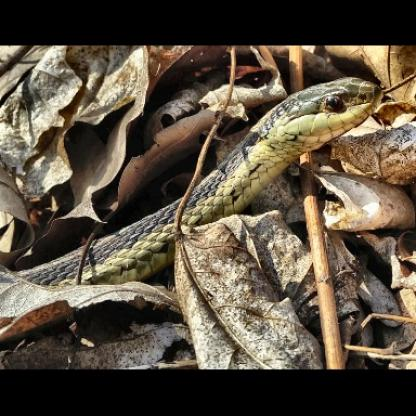Snake: (14, 72, 388, 297)
